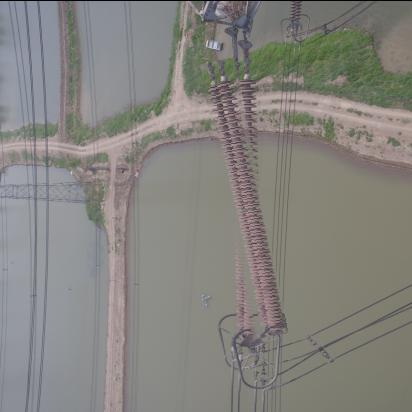insulator: (215, 58, 277, 340)
